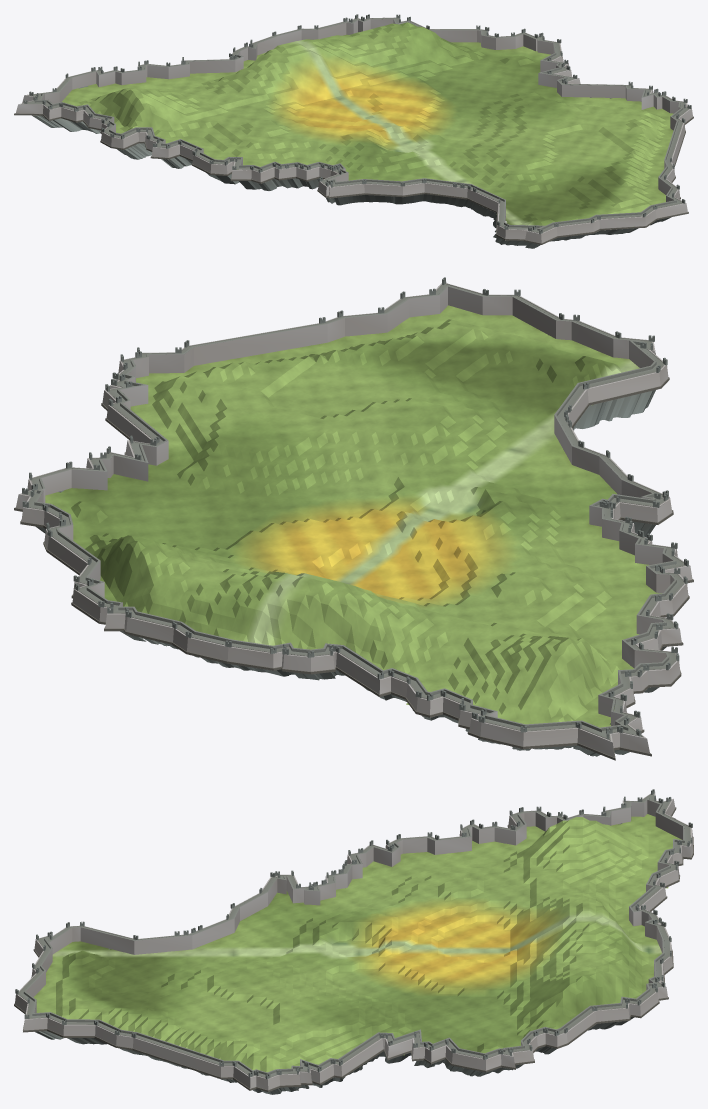
The picture shows the model from 3 angles, top to bottom: view 1: azimuth 30°, elevation 25°; view 2: azimuth 150°, elevation 25°; view 3: azimuth 270°, elevation 25°; orthographic projection. The views are drawn at different scales.
Visible parts, largest first — view 1: ground_0d35d5d9; view 2: ground_0d35d5d9; view 3: ground_0d35d5d9.
Boxes of the visible parts, <box> form: ground_0d35d5d9: <box>14,14,693,248</box>; ground_0d35d5d9: <box>14,277,693,760</box>; ground_0d35d5d9: <box>14,789,693,1094</box>.
Bounding box in the file's own units: 157 × 12.63 × 155.
3 materials, 1 textured.
